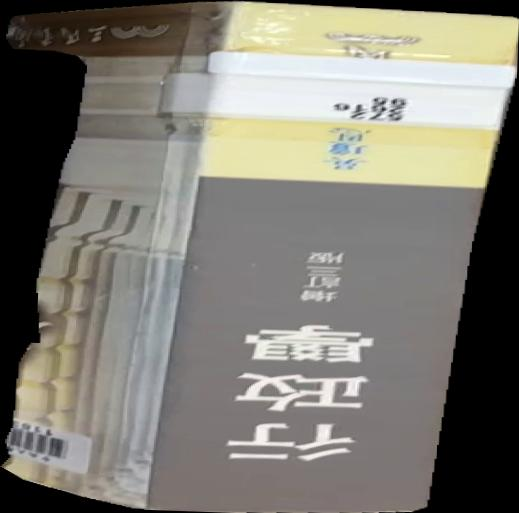reverse: (1, 1, 519, 513)
